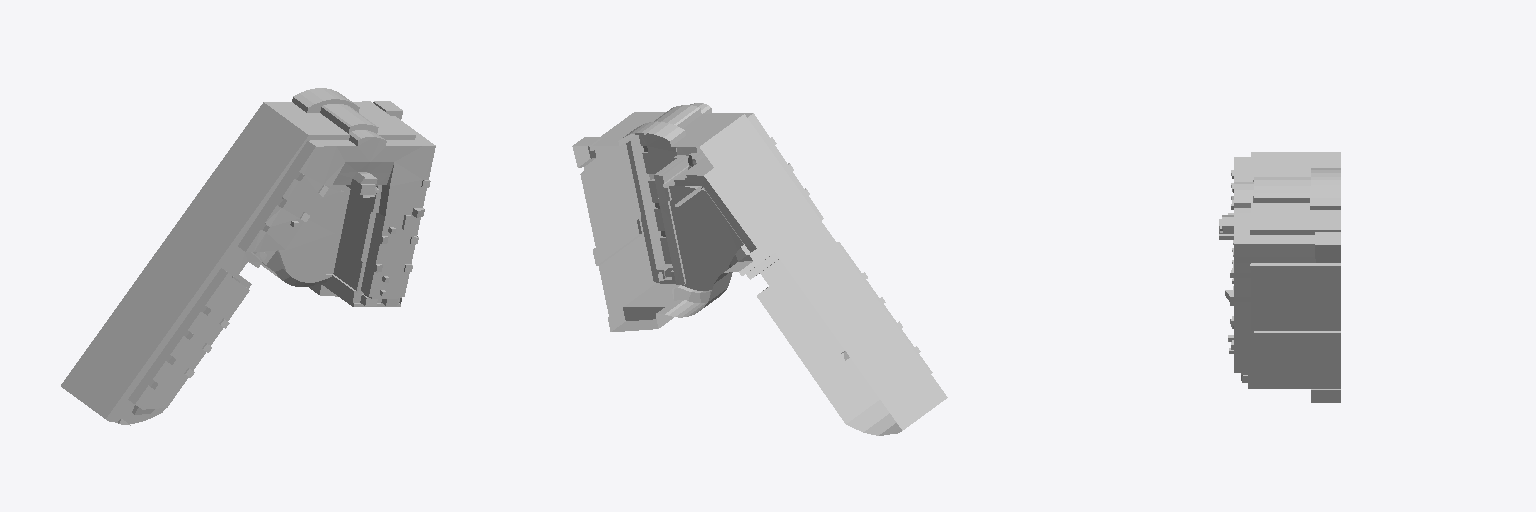
Rendered from talo_Build0000008.obj.
3 renders of one model, left to right at view 1: azimuth 30°, elevation 25°; view 2: azimuth 150°, elevation 25°; view 3: azimuth 270°, elevation 25°, orthographic.
Size of the model in its own units: 100 by 71.8 by 32.18.